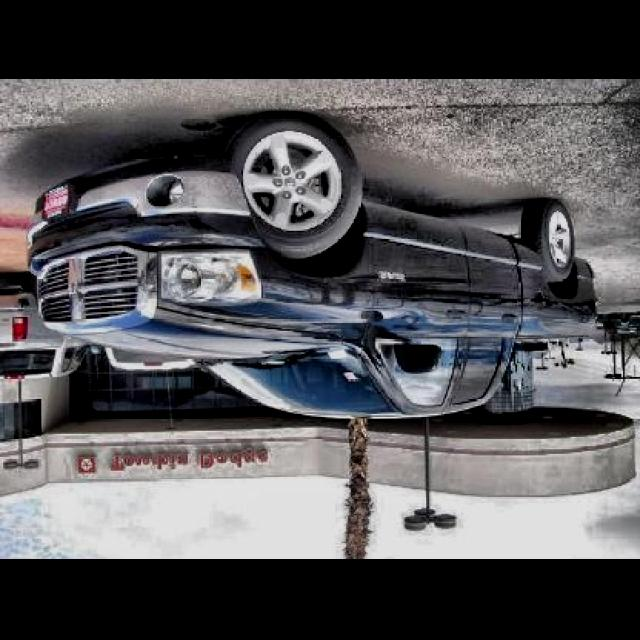black: (33, 115, 600, 423)
